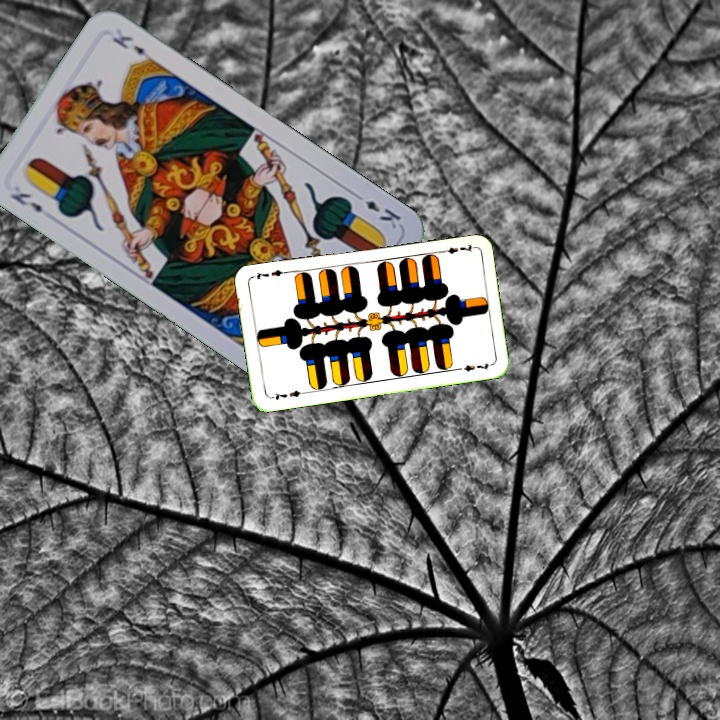E7: (266, 386, 307, 403), (435, 240, 476, 257)
EK: (349, 188, 404, 232), (6, 188, 45, 216)
